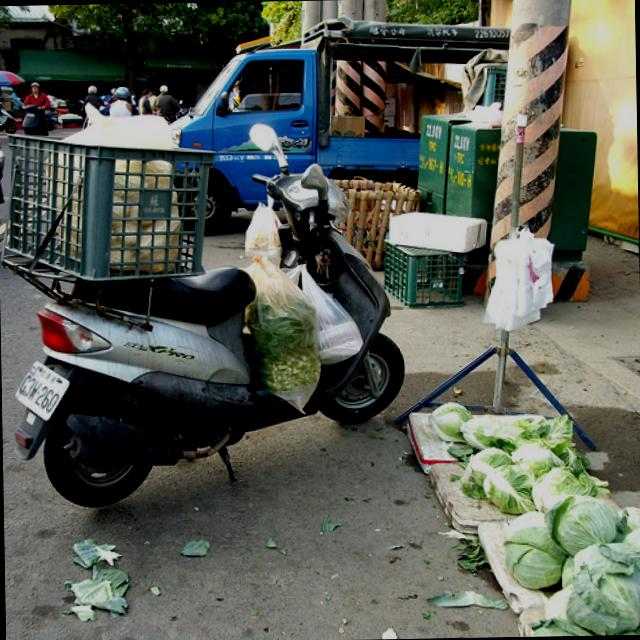Vehicle: (7, 123, 414, 515), (166, 12, 514, 236), (20, 99, 52, 135), (81, 105, 107, 128), (0, 102, 17, 133)
